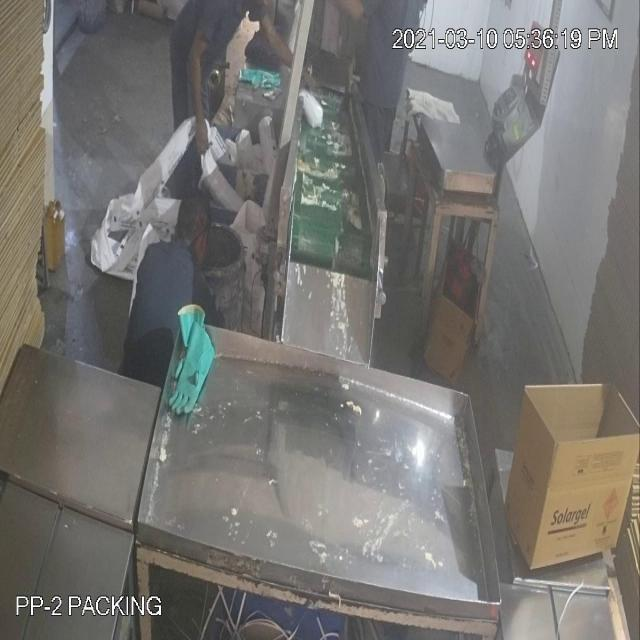No_Gloves: (186, 21, 215, 175)
